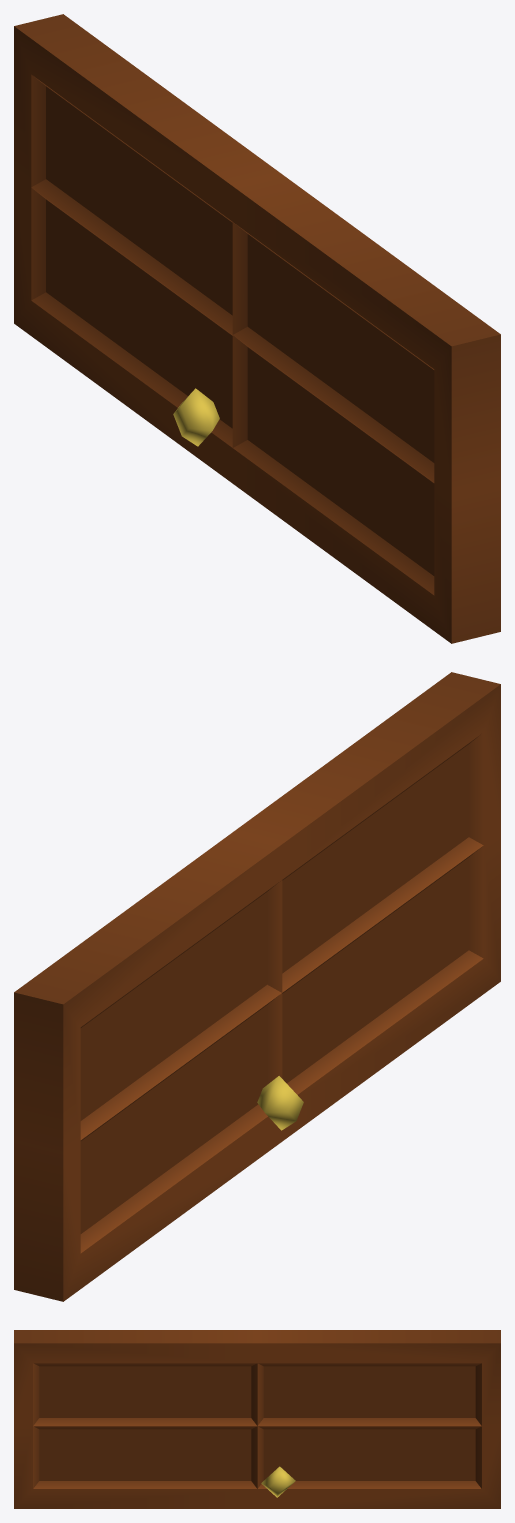
Rendered from Act.Door.glb.
The picture shows the model from 3 angles, top to bottom: view 1: azimuth 30°, elevation 25°; view 2: azimuth 150°, elevation 25°; view 3: azimuth 270°, elevation 25°; orthographic projection. The views are drawn at different scales.
Visible parts, largest first — view 1: Door; view 2: Door; view 3: Door.
Part boxes in pixels (x1,y1,x2,y2): Door: [14, 14, 500, 643]; Door: [14, 672, 500, 1301]; Door: [14, 1330, 500, 1508].
Size of the model in its own units: 0.3072 by 0.762 by 2.03.
